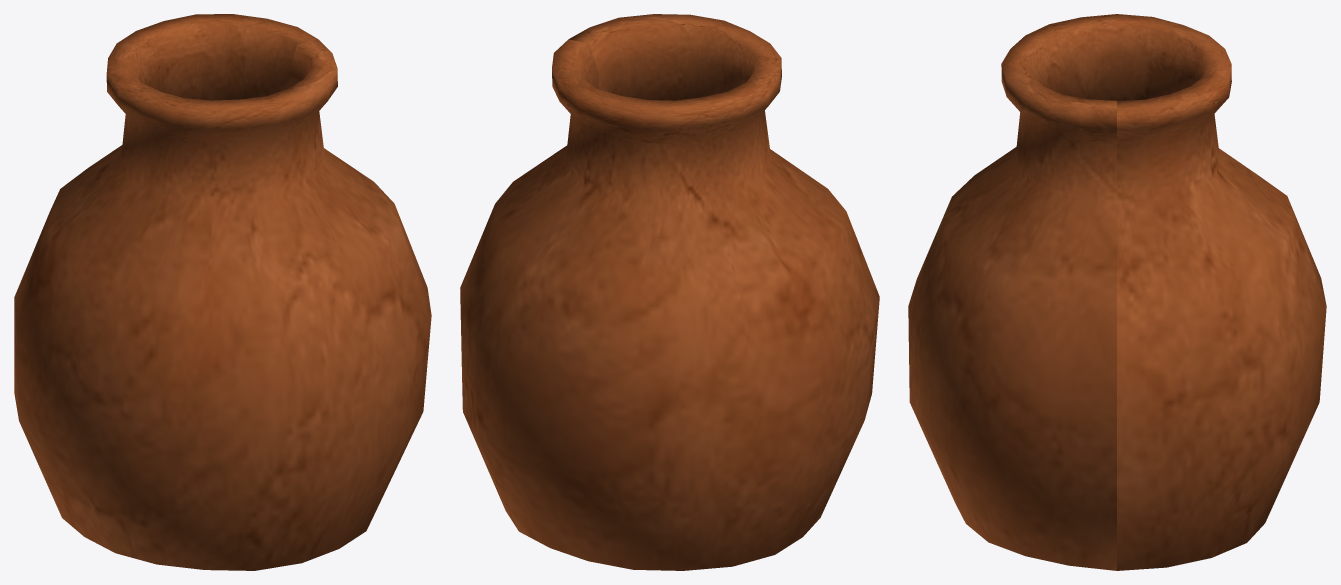
Rendered from prop_kolshi_lod1.glb.
3 views of the same model, side by side, from view 1: azimuth 30°, elevation 25°; view 2: azimuth 150°, elevation 25°; view 3: azimuth 270°, elevation 25° (orthographic).
Visible parts, largest first — view 1: prop_kolshi; view 2: prop_kolshi; view 3: prop_kolshi.
Boxes of the visible parts, x1,y1,x2,y2 form: prop_kolshi: (14,14,431,570); prop_kolshi: (460,14,879,570); prop_kolshi: (908,14,1326,570).
Bounding box in the file's own units: 0.29 × 0.35 × 0.29.
1 material, 1 textured.
